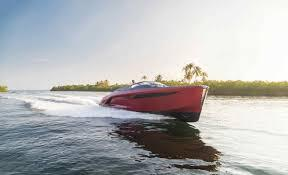Ship: (101, 83, 209, 122)
